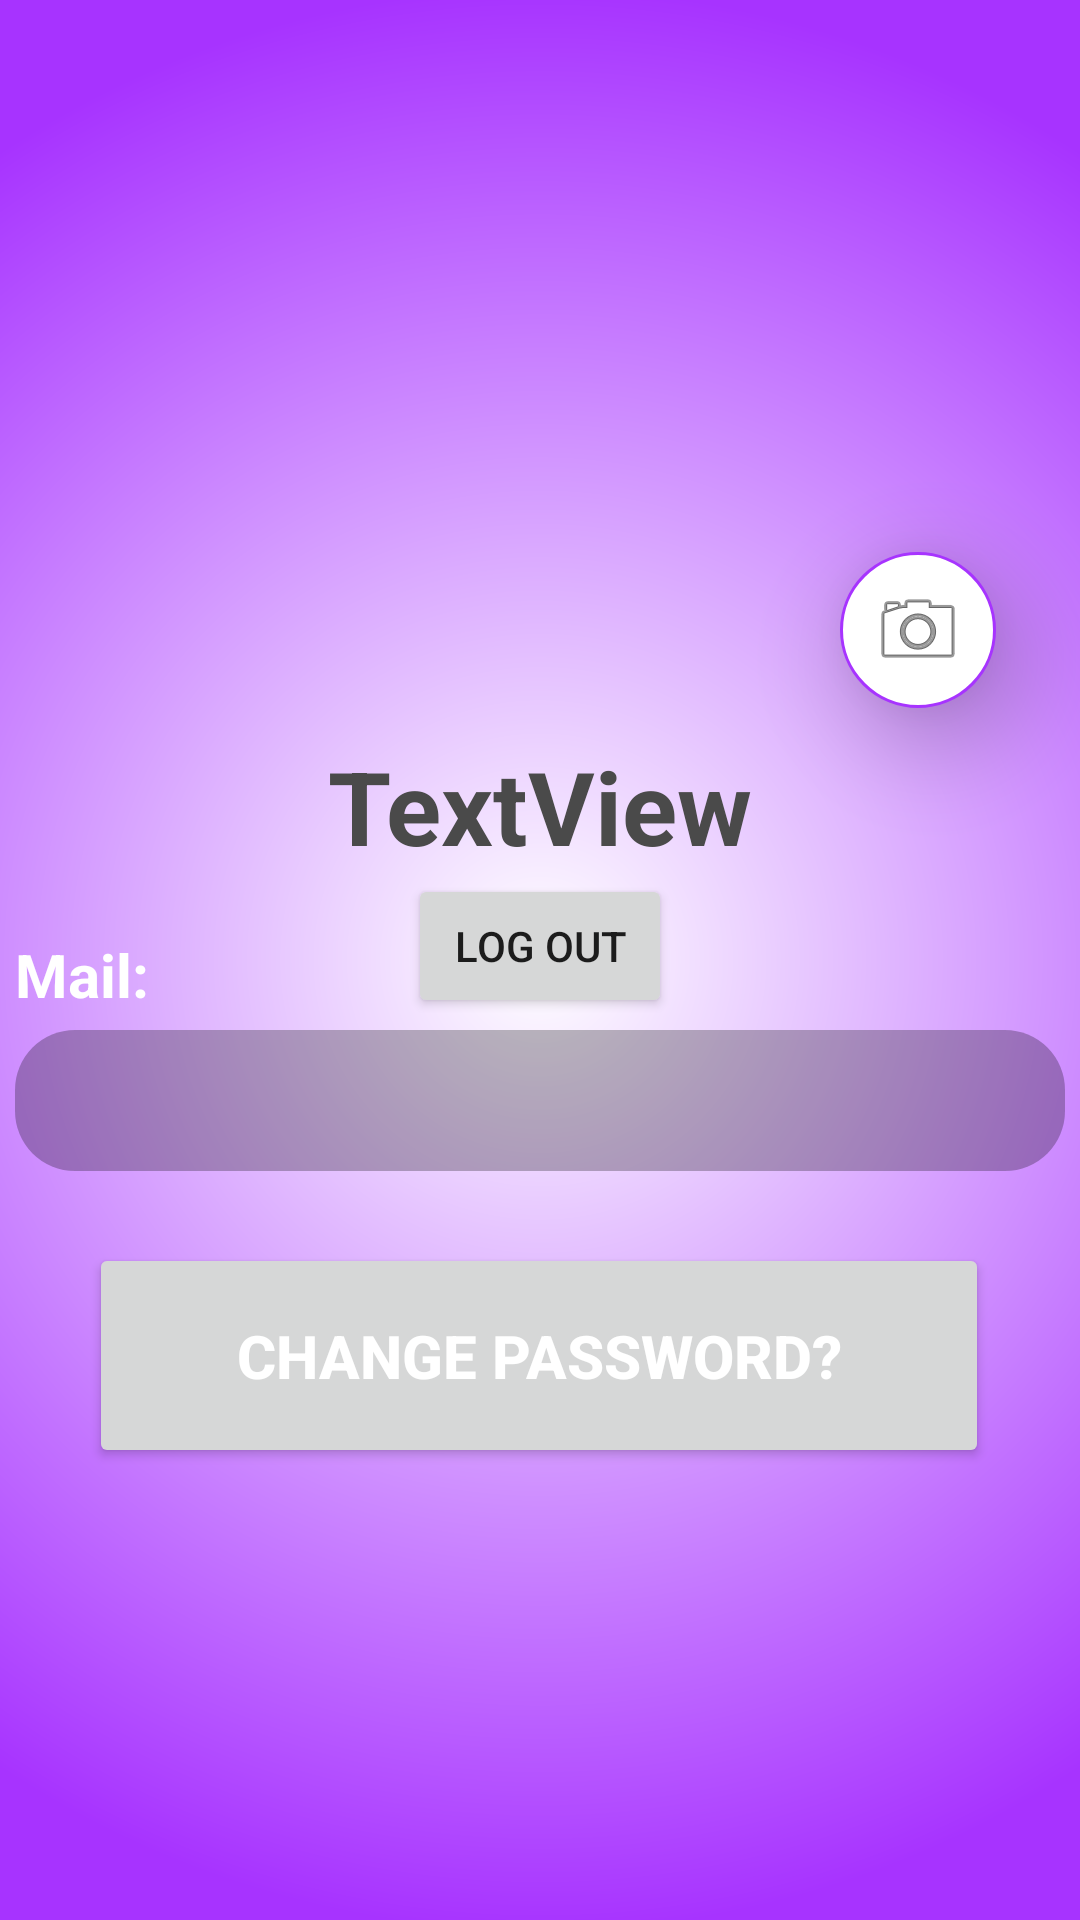

Point at icon controls on the screen. Image size 1080px×1920px, points as (x=x, y=y).
camera: (x=918, y=630)
